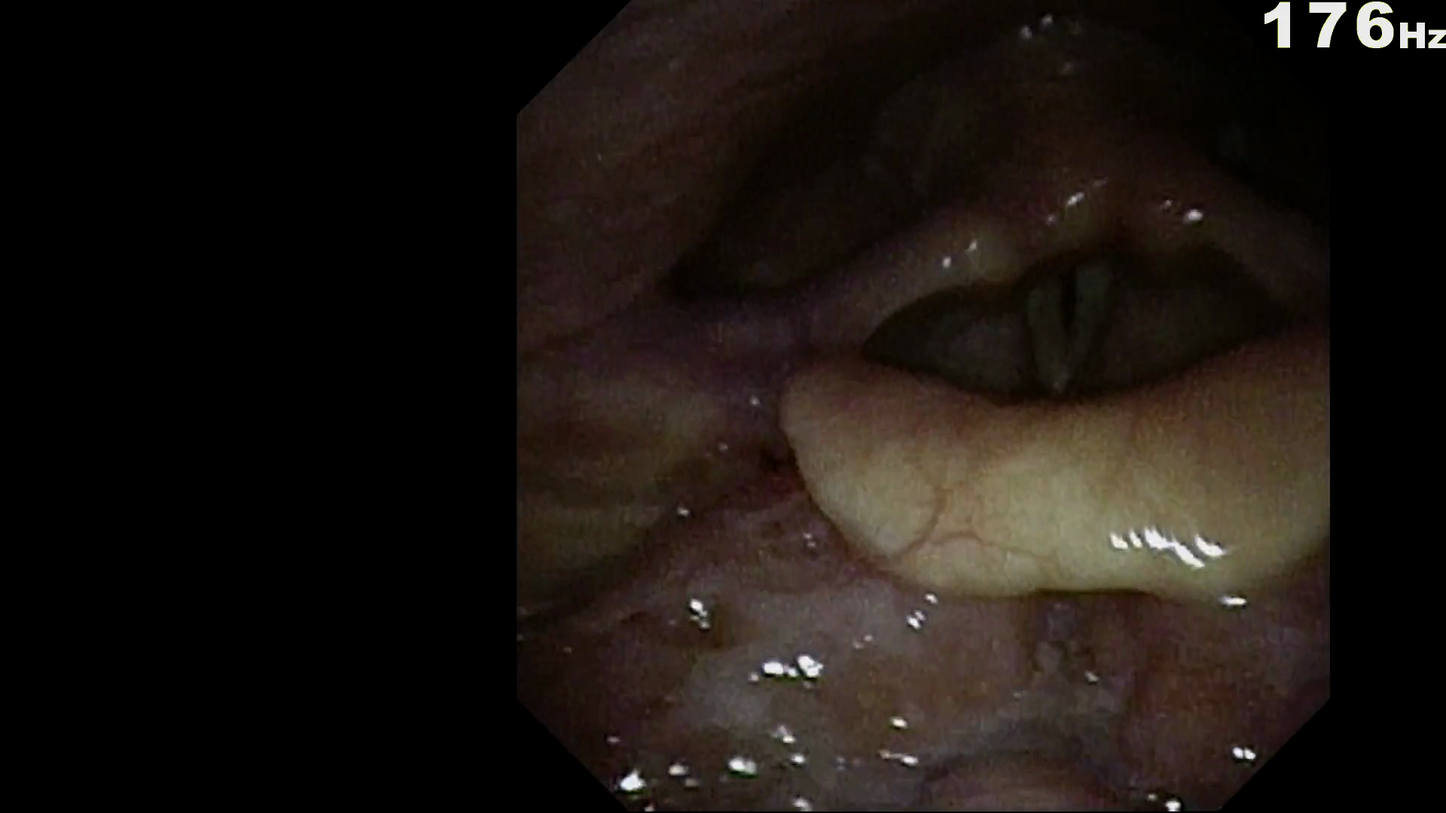epiglottis: (770, 345, 1311, 606)
trachea: (996, 258, 1143, 413)
